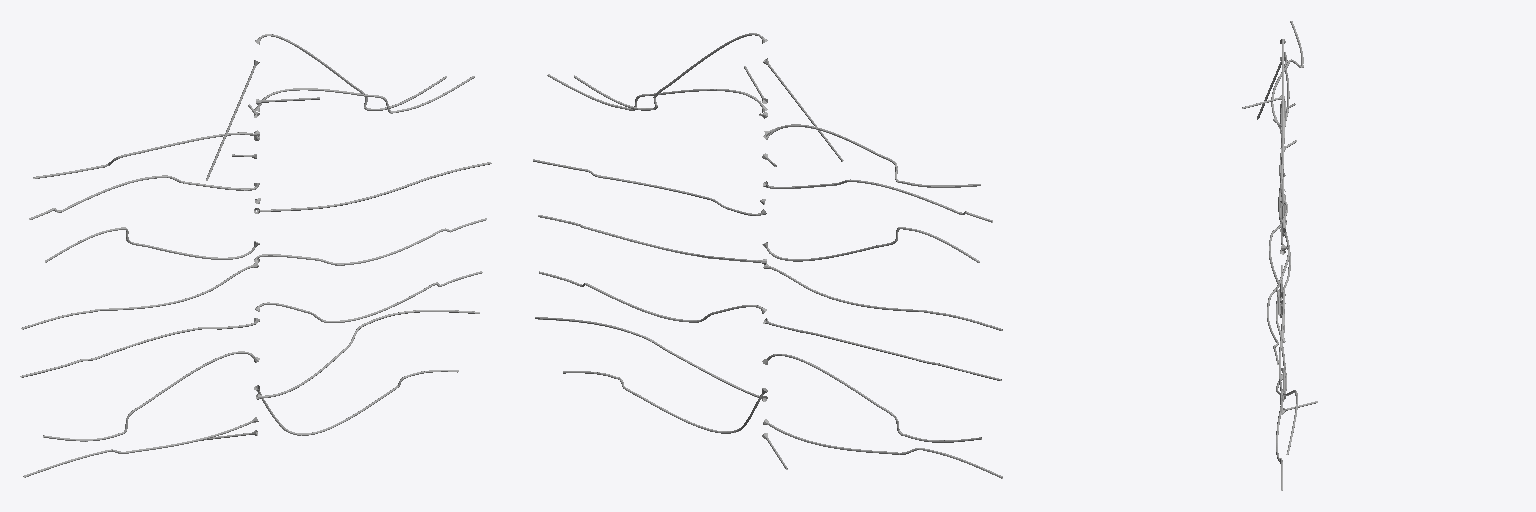
The robot description file, URDF, robot "ur5e":
<robot name="ur5e" xmlns:xacro="http://ros.org/wiki/xacro">
    <link name="tree">
        <visual>
        <geometry>
            <mesh filename="meshes_and_urdf/meshes/trees/envy/test_labelled_split/tree_149_BRANCH.obj" scale="1 1 1"/>
        </geometry>
        <material name="LightGrey">
            <color rgba="0.7 0.7 0.7 0.0"/>
        </material>
        </visual>
        <collision concave = "true">
        <geometry>
            <mesh filename="meshes_and_urdf/meshes/trees/envy/test_labelled_split/tree_149_BRANCH.obj" scale="1 1 1"/>
        </geometry>
        </collision>
        <inertial>
        <mass value="4.0"/>
        <origin rpy="0 0 0" xyz="0.0 0.0 0.0"/>
        <inertia ixx="0.00443333156" ixy="0.0" ixz="0.0" iyy="0.00443333156" iyz="0.0" izz="0.0072"/>
        </inertial>
    </link>
        <link name="world"/>
    <joint name="tree_joint" type="fixed">
        <parent link="world"/>
        <child link="tree"/>
        <origin rpy="0.0 0.0 0.0" xyz="0.0 0.0 0.0"/>
    </joint>
    </robot>

--- Facts derived from the render (not from the file) ---
Views: 3 orthographic renders of the robot side by side, from view 1: azimuth 30°, elevation 25°; view 2: azimuth 150°, elevation 25°; view 3: azimuth 270°, elevation 25°.
Model ur5e with 2 links and 1 joints (1 fixed), rooted at world, posed all joints at 0.
Links seen in each view (by area): view 1: tree; view 2: tree; view 3: tree.
Link boxes in pixels (box(x1,y1,x2,y2)): tree: box(20, 34, 491, 477); tree: box(533, 33, 1002, 478); tree: box(1242, 21, 1317, 490).
Size in the robot's own frame: 4.31 by 0.6479 by 3.61 metres.
1 mesh visuals loaded from 1 distinct referenced files (1 OBJ).
